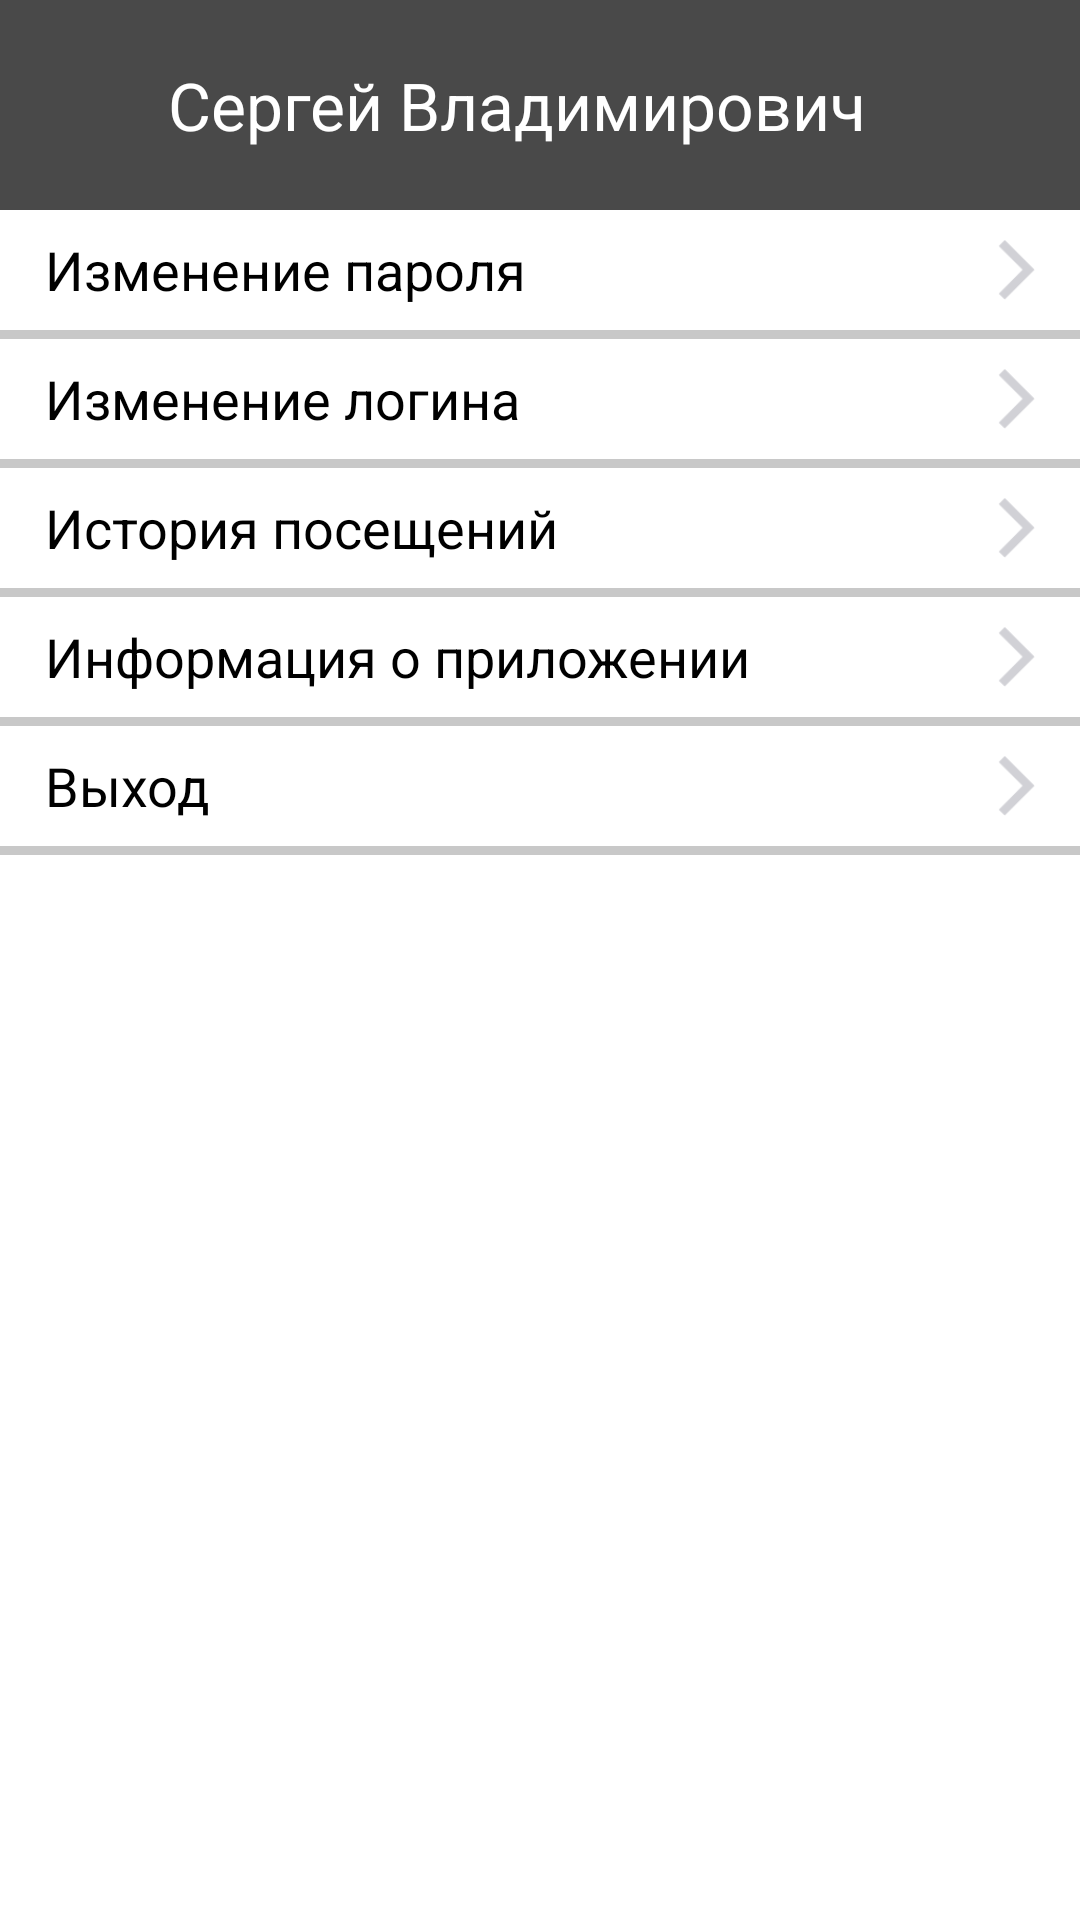

Icon click points for this 1080×1920 phone screenshot, format [x,y]:
right detail: [1016,270], [1016,399], [1016,528], [1016,657], [1016,786]
